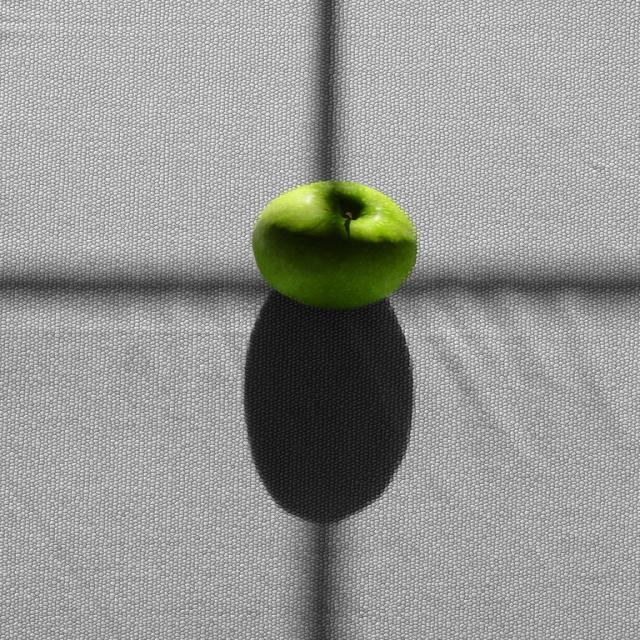Healty Apple: (254, 173, 422, 305)
